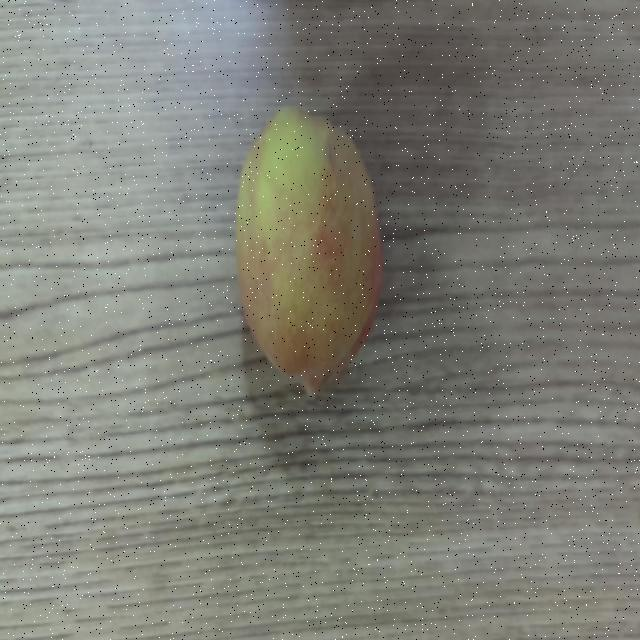Persik: (231, 102, 390, 409)
